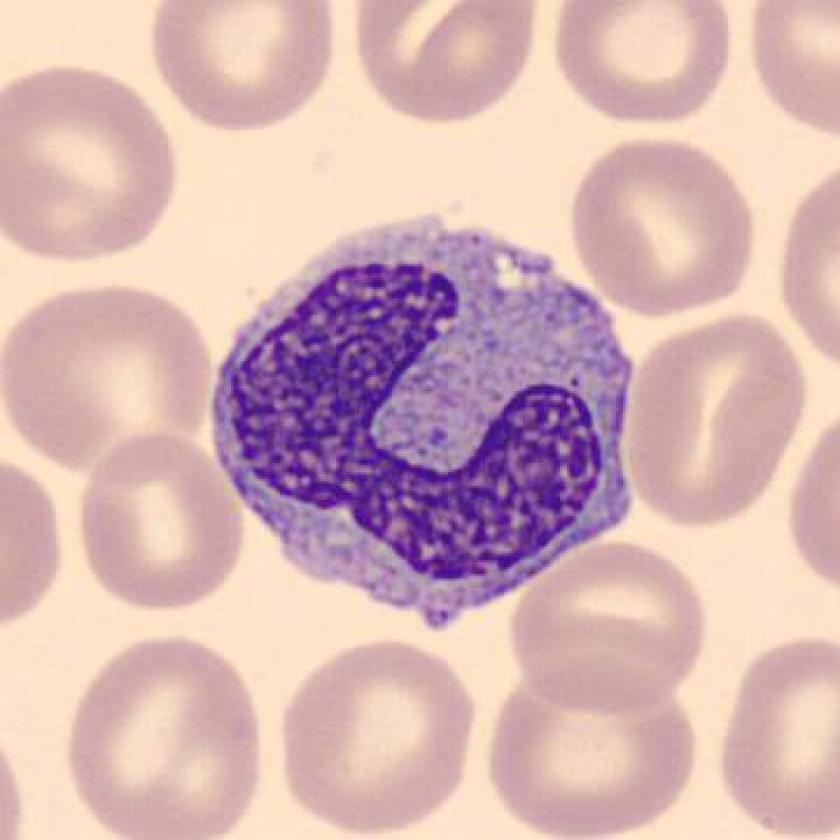monocyte: (195, 193, 654, 651)
